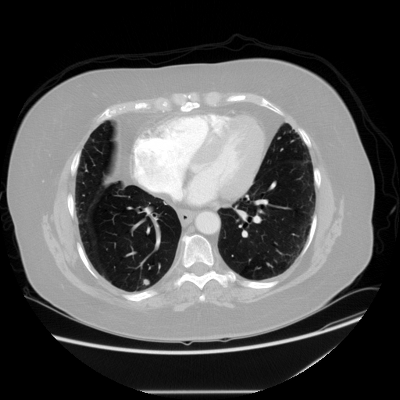nodule: (142, 278, 150, 286)
